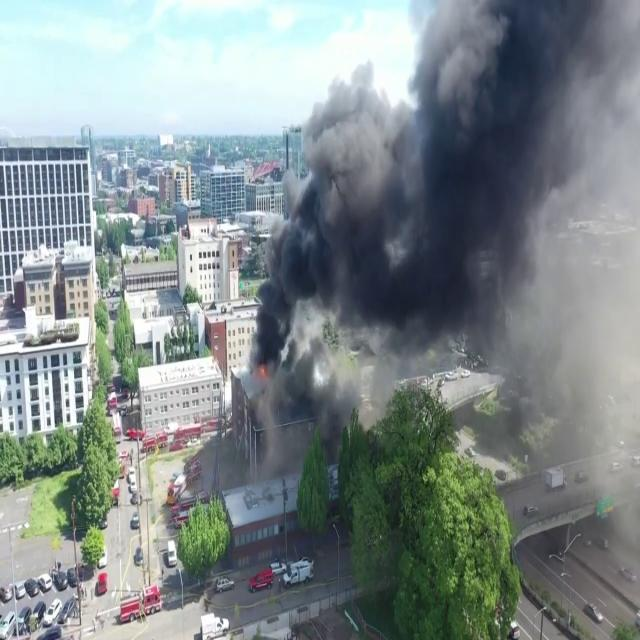Smoke: (245, 0, 602, 404)
